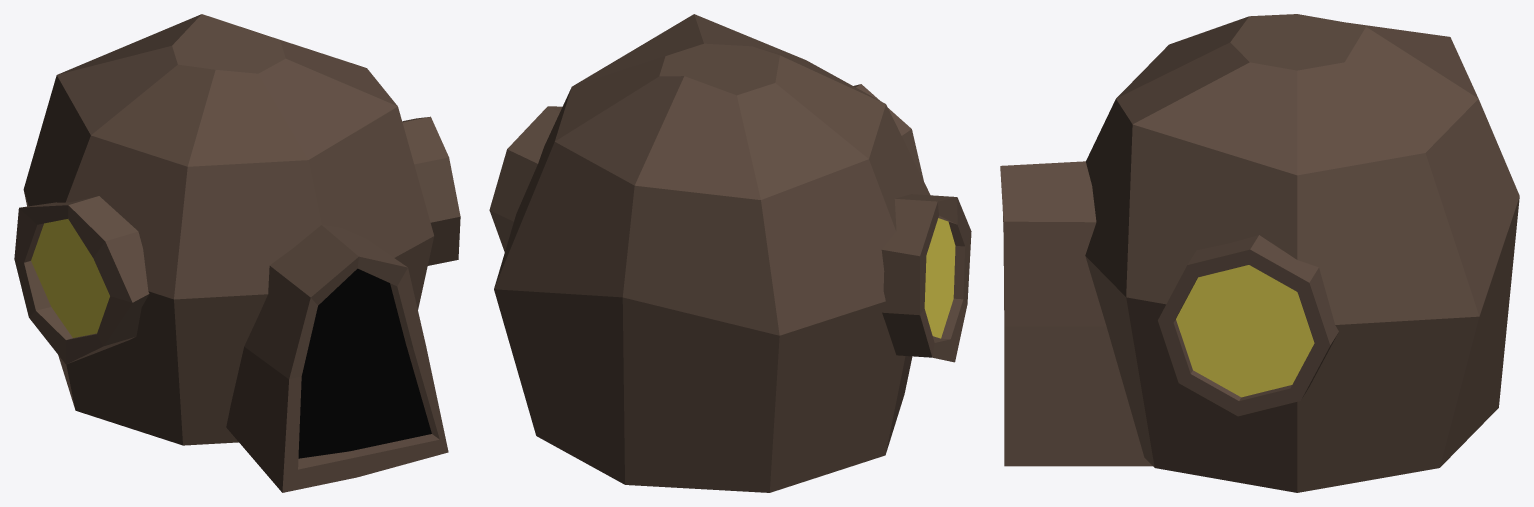
The model's file is HamsterHouse_01.glb.
3 views of the same model, side by side, from view 1: azimuth 30°, elevation 25°; view 2: azimuth 150°, elevation 25°; view 3: azimuth 270°, elevation 25° (orthographic). The views are drawn at different scales.
Parts seen in each view (by area): view 1: Cylinder; view 2: Cylinder; view 3: Cylinder.
Part boxes in pixels (x1,y1,x2,y2): Cylinder: (14,14,460,492); Cylinder: (489,14,971,492); Cylinder: (1000,14,1519,492).
Bounding box in the file's own units: 4.15 × 3.44 × 4.11.
